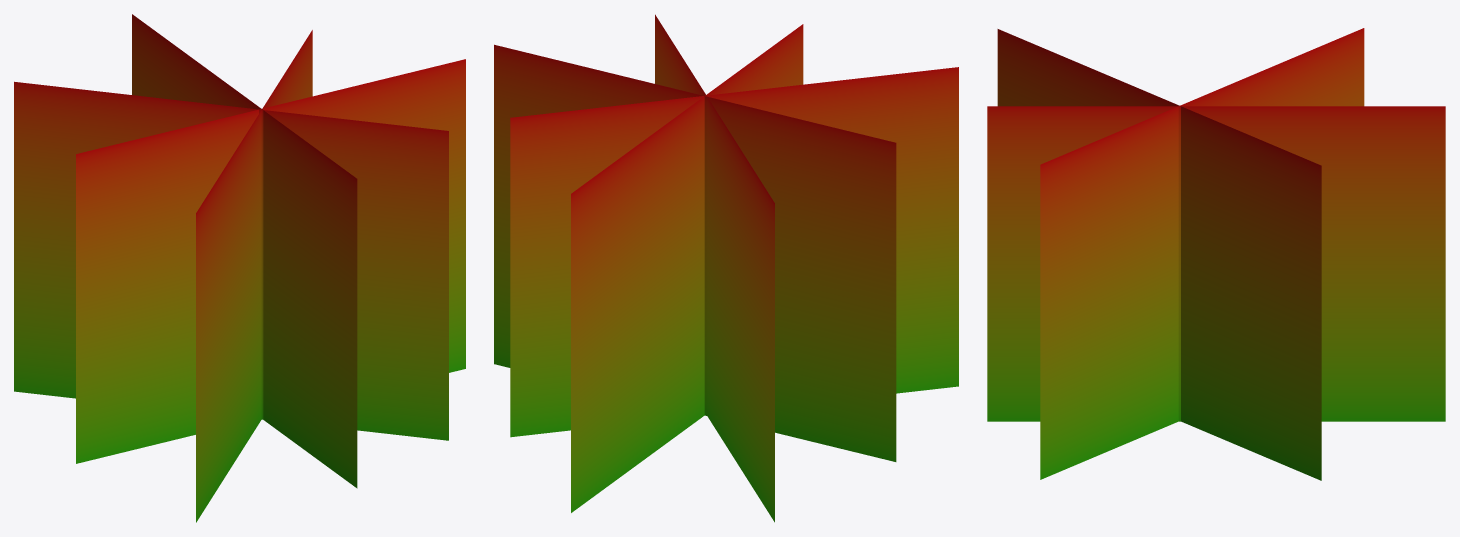
The model's file is grama1.fbx.
3 renders of one model, left to right at view 1: azimuth 30°, elevation 25°; view 2: azimuth 150°, elevation 25°; view 3: azimuth 270°, elevation 25°, orthographic. The views are drawn at different scales.
Visible parts, largest first — view 1: _541d_Var1_LOD3; view 2: _541d_Var1_LOD3; view 3: _541d_Var1_LOD3.
Boxes of the visible parts, x1=… form: _541d_Var1_LOD3: x1=14, y1=14, x2=465, y2=522; _541d_Var1_LOD3: x1=494, y1=14, x2=958, y2=522; _541d_Var1_LOD3: x1=987, y1=28, x2=1445, y2=480.
Size of the model in its own units: 71.3 by 54.13 by 71.3.
